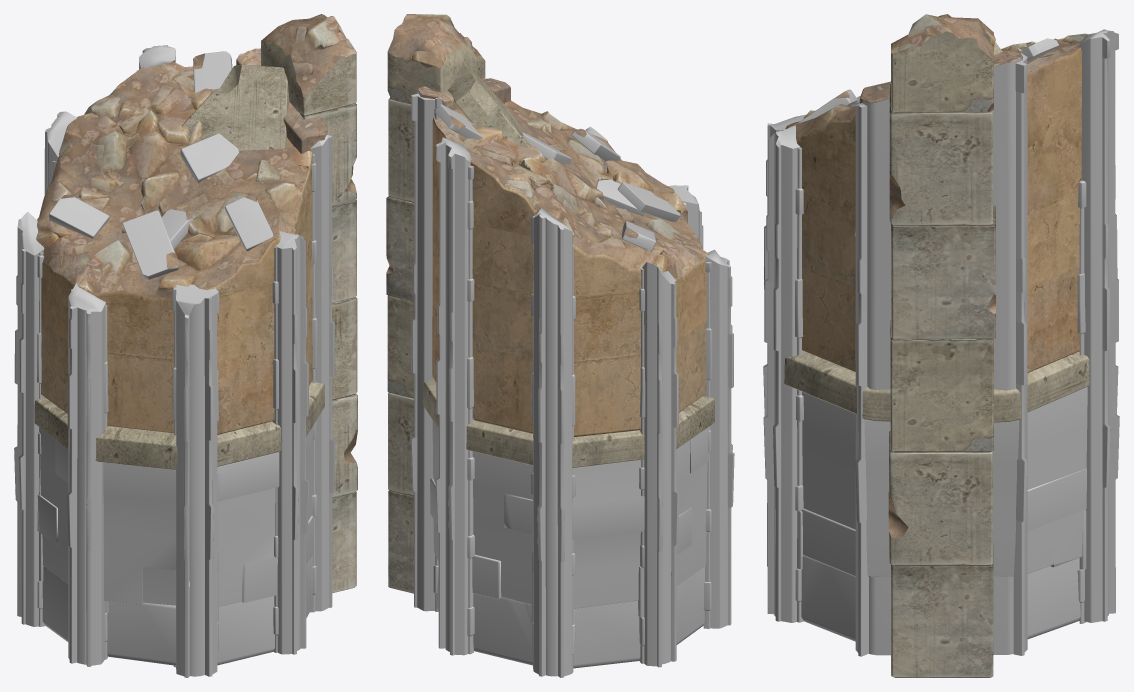
3 renders of one model, left to right at view 1: azimuth 30°, elevation 25°; view 2: azimuth 150°, elevation 25°; view 3: azimuth 270°, elevation 25°, orthographic. The views are drawn at different scales.
Parts seen in each view (by area): view 1: SM_Magic_Institute_Tower_01v2_LOD0; view 2: SM_Magic_Institute_Tower_01v2_LOD0; view 3: SM_Magic_Institute_Tower_01v2_LOD0.
Boxes of the visible parts, bbox=[...] form: SM_Magic_Institute_Tower_01v2_LOD0: bbox=[14, 14, 357, 677]; SM_Magic_Institute_Tower_01v2_LOD0: bbox=[386, 14, 734, 677]; SM_Magic_Institute_Tower_01v2_LOD0: bbox=[763, 14, 1119, 677].
Size of the model in its own units: 3.96 by 7.12 by 3.54.
